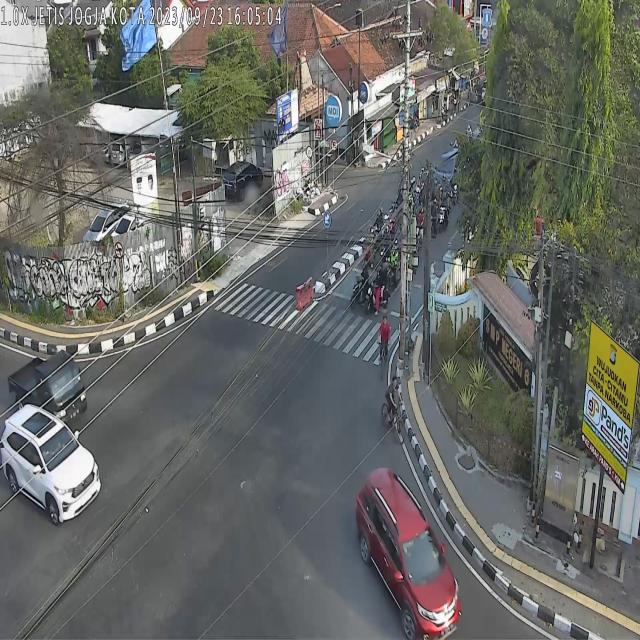car: (354, 462, 461, 640), (2, 405, 102, 527), (434, 148, 460, 190)
motorcycle: (365, 260, 390, 314), (349, 259, 370, 309), (386, 240, 401, 290), (361, 225, 376, 269), (372, 207, 385, 242), (415, 208, 424, 256), (439, 192, 449, 232), (379, 227, 391, 260), (451, 178, 460, 208)
truck: (7, 351, 88, 426)
